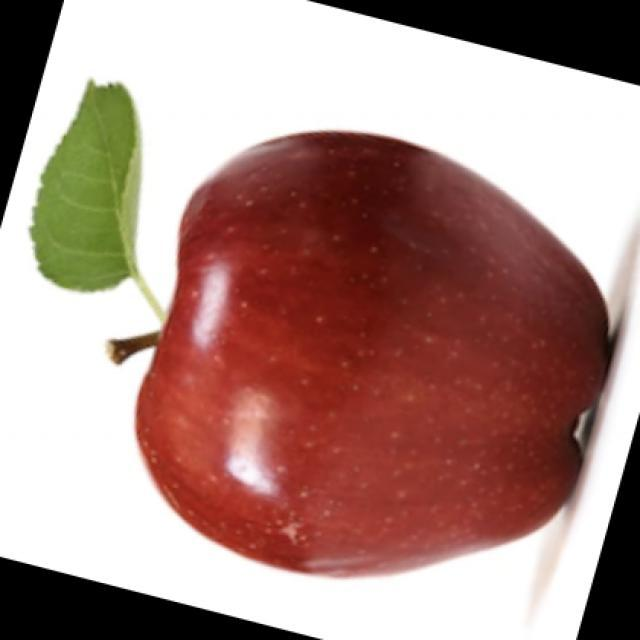Fresh Apple: (143, 138, 602, 585)
